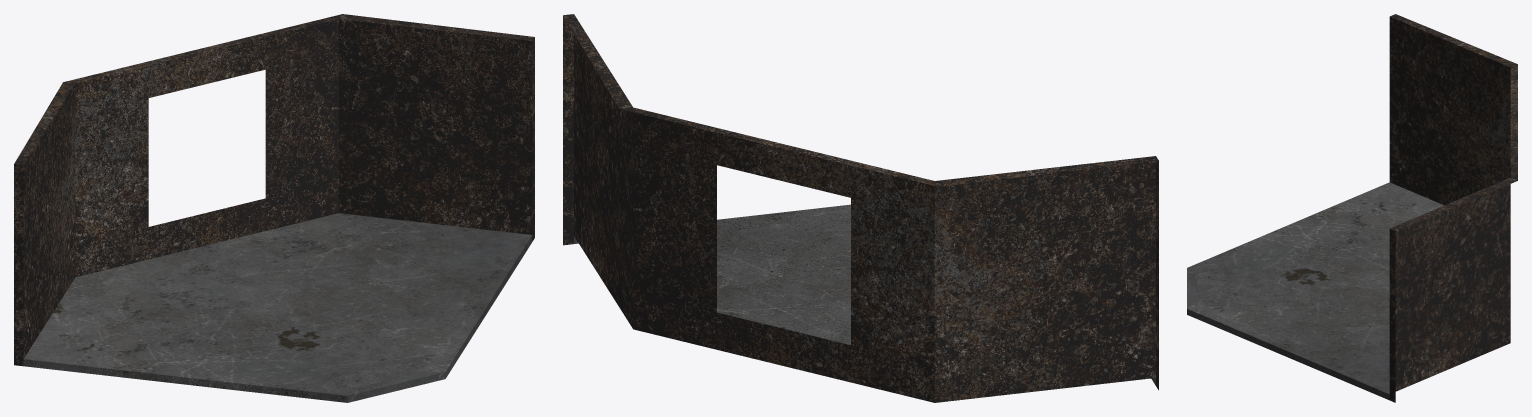
The model's file is CF_Room.fbx.
3 renders of one model, left to right at view 1: azimuth 30°, elevation 25°; view 2: azimuth 150°, elevation 25°; view 3: azimuth 270°, elevation 25°, orthographic. The views are drawn at different scales.
Visible parts, largest first — view 1: CF_Room; view 2: CF_Room; view 3: CF_Room.
Boxes of the visible parts, box(x1,y1,x2,y2) form: CF_Room: box(14, 14, 534, 402); CF_Room: box(563, 14, 1158, 402); CF_Room: box(1187, 14, 1517, 402).
Bounding box in the file's own units: 1125 × 415 × 724.
